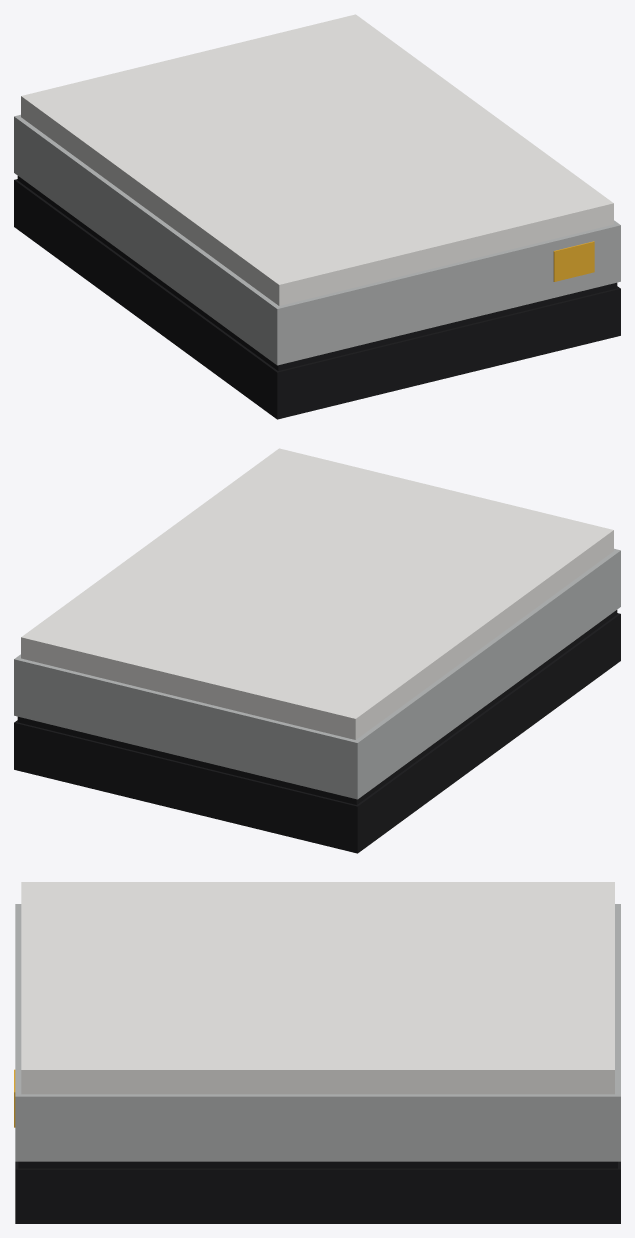
The model's file is pk_mat_grey.glb.
3 renders of one model, top to bottom at view 1: azimuth 30°, elevation 25°; view 2: azimuth 150°, elevation 25°; view 3: azimuth 270°, elevation 25°, orthographic. The views are drawn at different scales.
Visible parts, largest first — view 1: pk_mat_grey; view 2: pk_mat_grey; view 3: pk_mat_grey.
Boxes of the visible parts, bbox=[...] form: pk_mat_grey: bbox=[14, 14, 620, 419]; pk_mat_grey: bbox=[14, 448, 620, 853]; pk_mat_grey: bbox=[14, 882, 620, 1223].
Bounding box in the file's own units: 1.53 × 0.56 × 2.03.
1 material, 1 textured.
